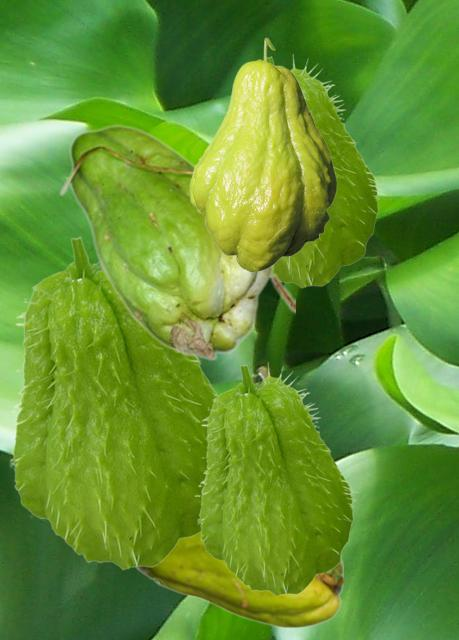sayote: (5, 235, 218, 569), (58, 124, 294, 360), (194, 361, 357, 595), (189, 37, 336, 271), (268, 53, 382, 287), (135, 534, 342, 628)
